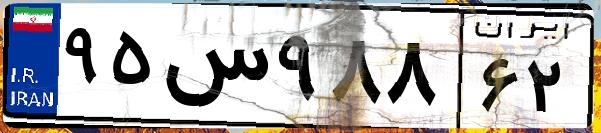2: (525, 38, 570, 115)
5: (110, 28, 158, 98)
6: (475, 38, 525, 113)
8: (385, 28, 445, 110), (330, 28, 385, 110)
9: (270, 28, 330, 110), (57, 26, 110, 100)
س: (158, 20, 270, 120)
